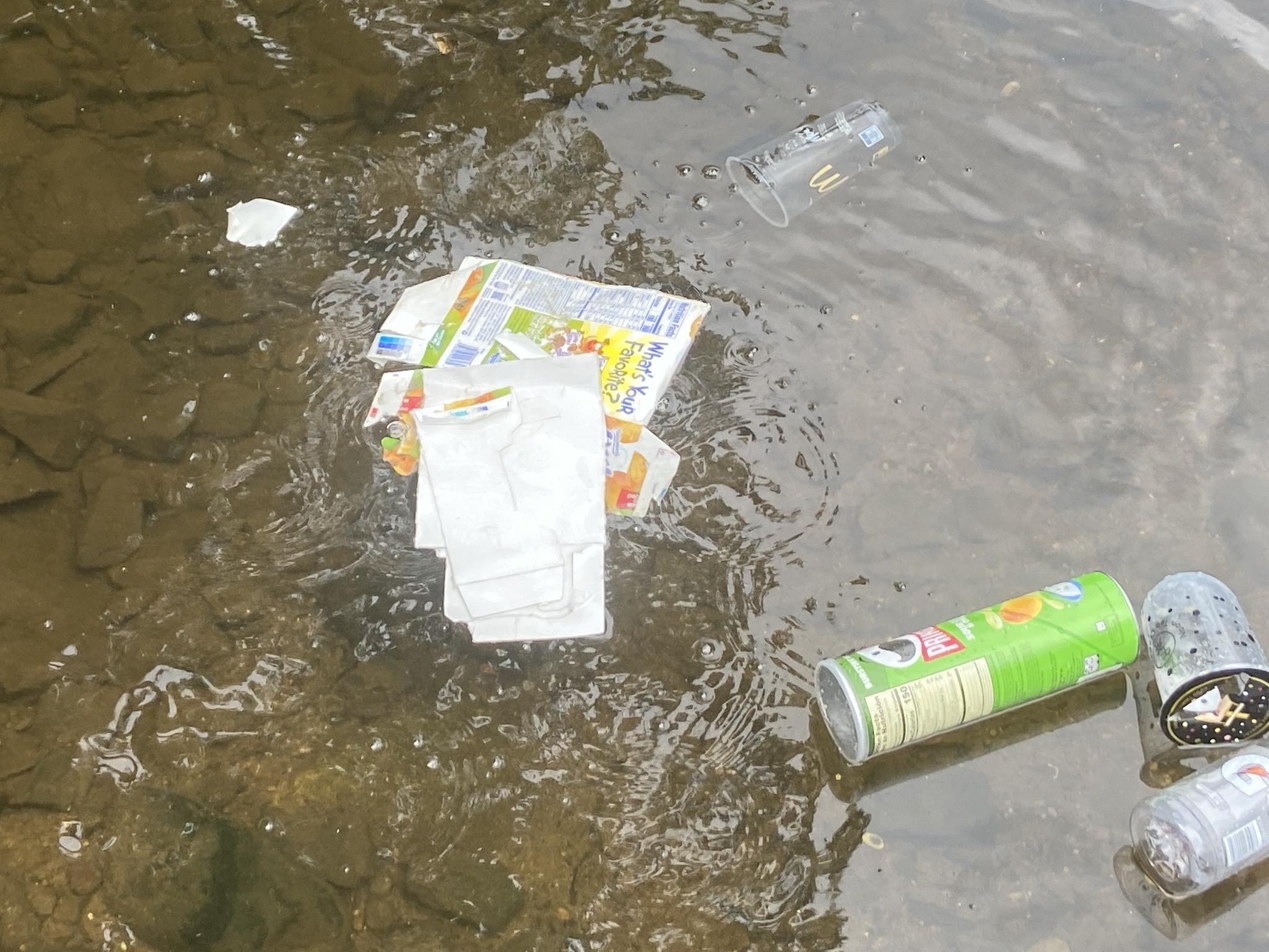cardboard: (416, 359, 715, 724)
metal: (176, 803, 402, 952)
paper: (303, 396, 614, 629), (697, 213, 767, 318)
plastic: (712, 718, 866, 916)
